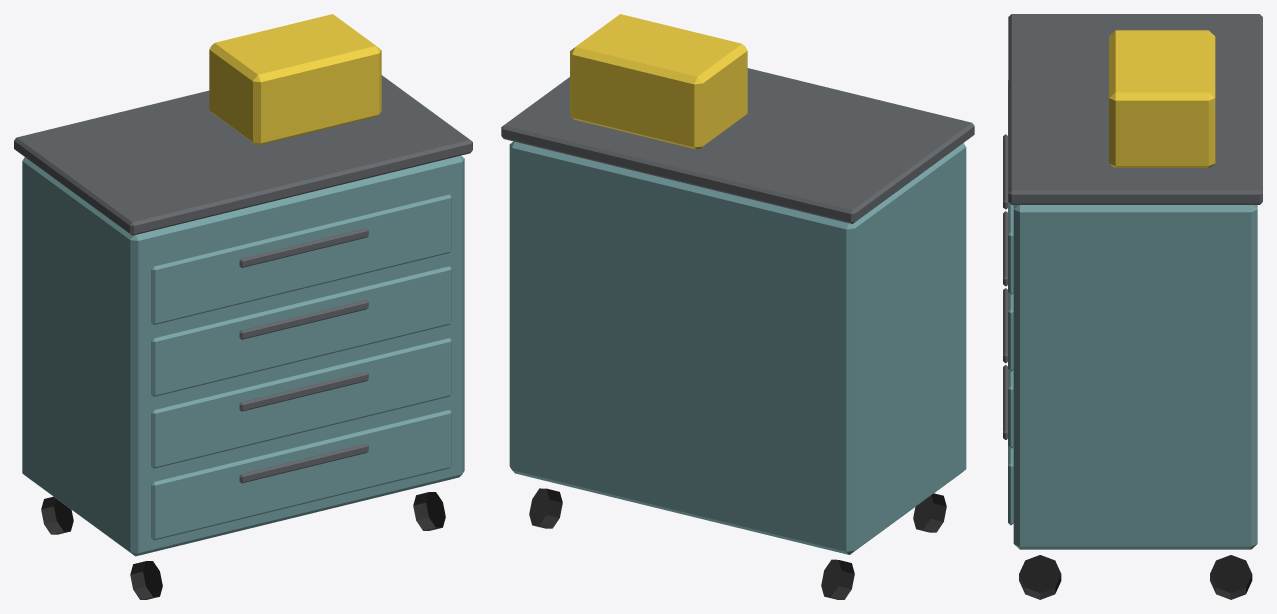
File: toolbox_cart.glb
3 renders of one model, left to right at view 1: azimuth 30°, elevation 25°; view 2: azimuth 150°, elevation 25°; view 3: azimuth 270°, elevation 25°, orthographic. The views are drawn at different scales.
Visible parts, largest first — view 1: toolbox_cart; view 2: toolbox_cart; view 3: toolbox_cart.
Part boxes in pixels (bbox=[...]): toolbox_cart: bbox=[14, 14, 472, 599]; toolbox_cart: bbox=[501, 14, 974, 599]; toolbox_cart: bbox=[1003, 14, 1262, 599].
Size of the model in its own units: 0.8 by 1.03 by 0.49.
